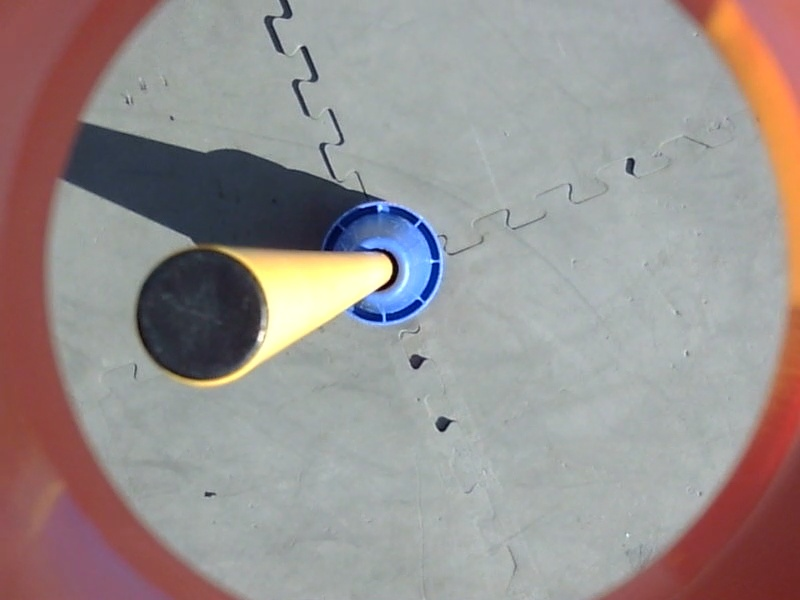tip: (129, 238, 287, 391)
